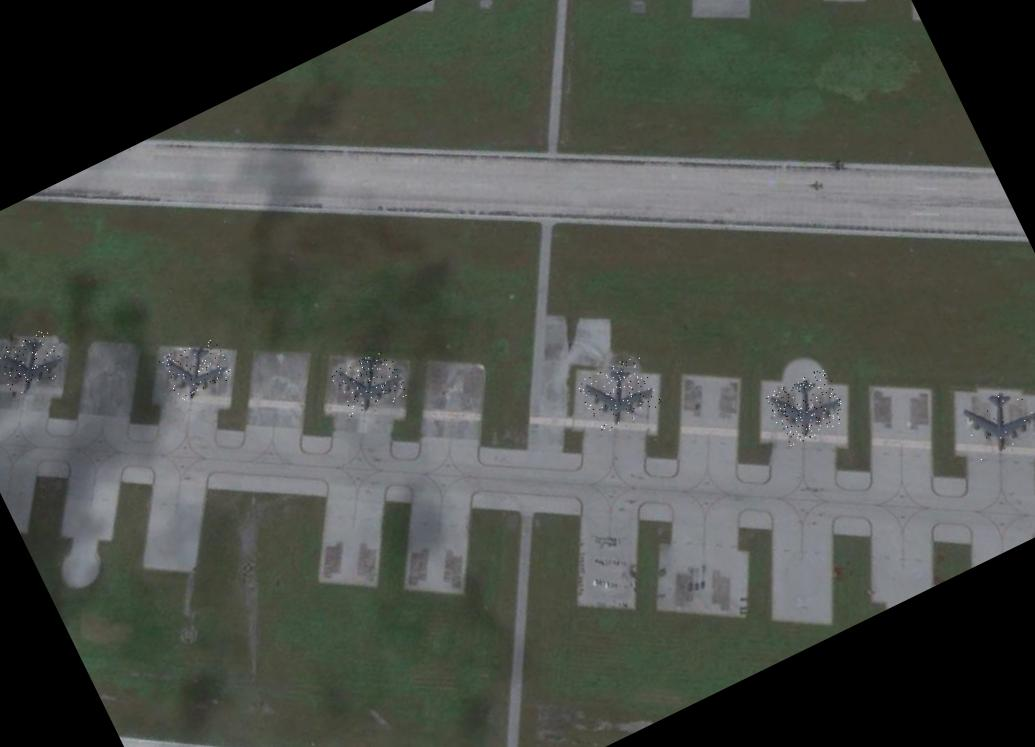A8: (575, 352, 662, 434), (763, 366, 850, 448), (957, 379, 1035, 462), (328, 345, 408, 421), (157, 332, 234, 404), (0, 327, 66, 397)
